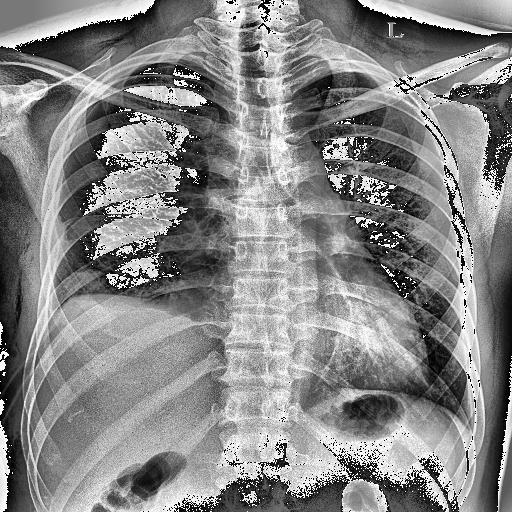1- Atelectasis: (163, 260, 234, 328)
10- Pleural effusion: (27, 272, 223, 362)
7- Lung Opacity: (66, 260, 116, 302), (66, 264, 118, 296)
8- Nodule-Mass: (158, 210, 220, 272), (62, 262, 114, 300)
9- Other lesion: (32, 278, 208, 407), (2, 258, 96, 430)
